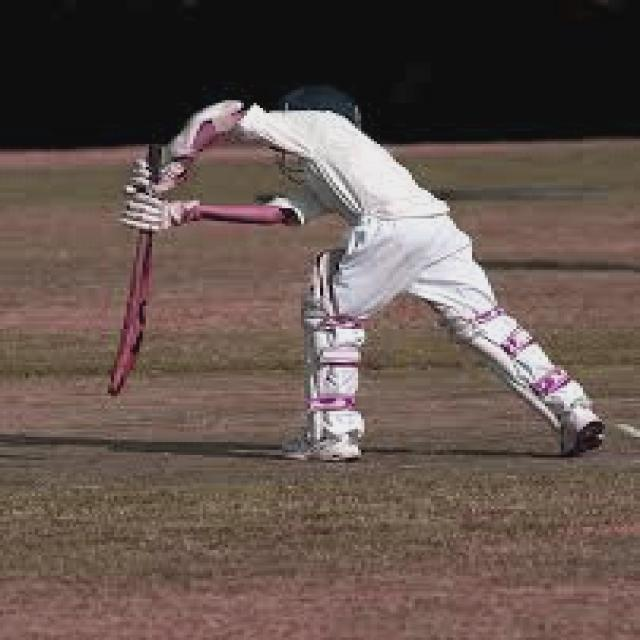toe: (96, 356, 132, 408)
